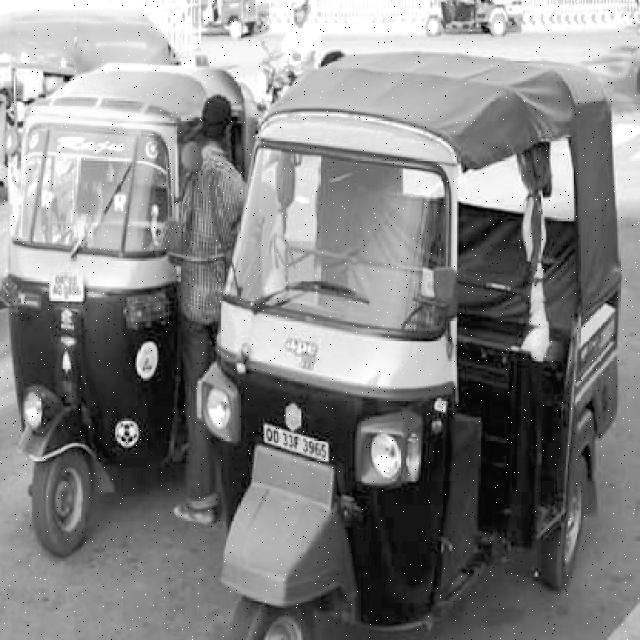Auto-Rickshaw: (192, 66, 616, 639), (12, 62, 253, 563)
